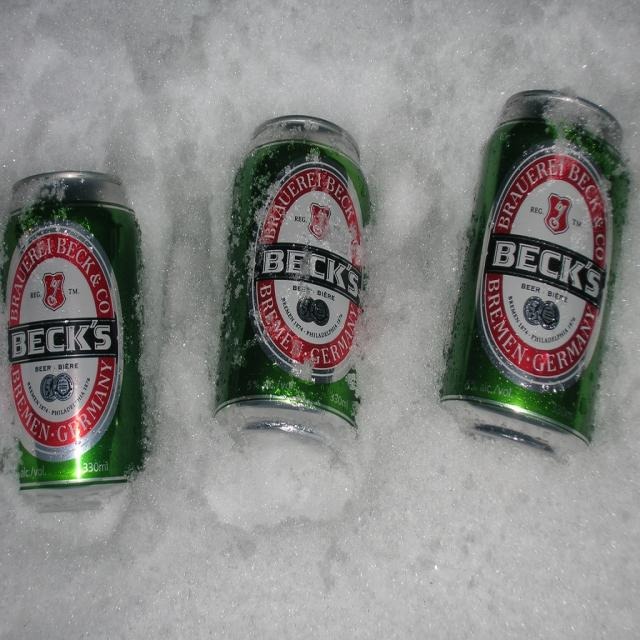becks: (477, 147, 613, 389), (2, 220, 123, 463), (249, 157, 369, 390)
